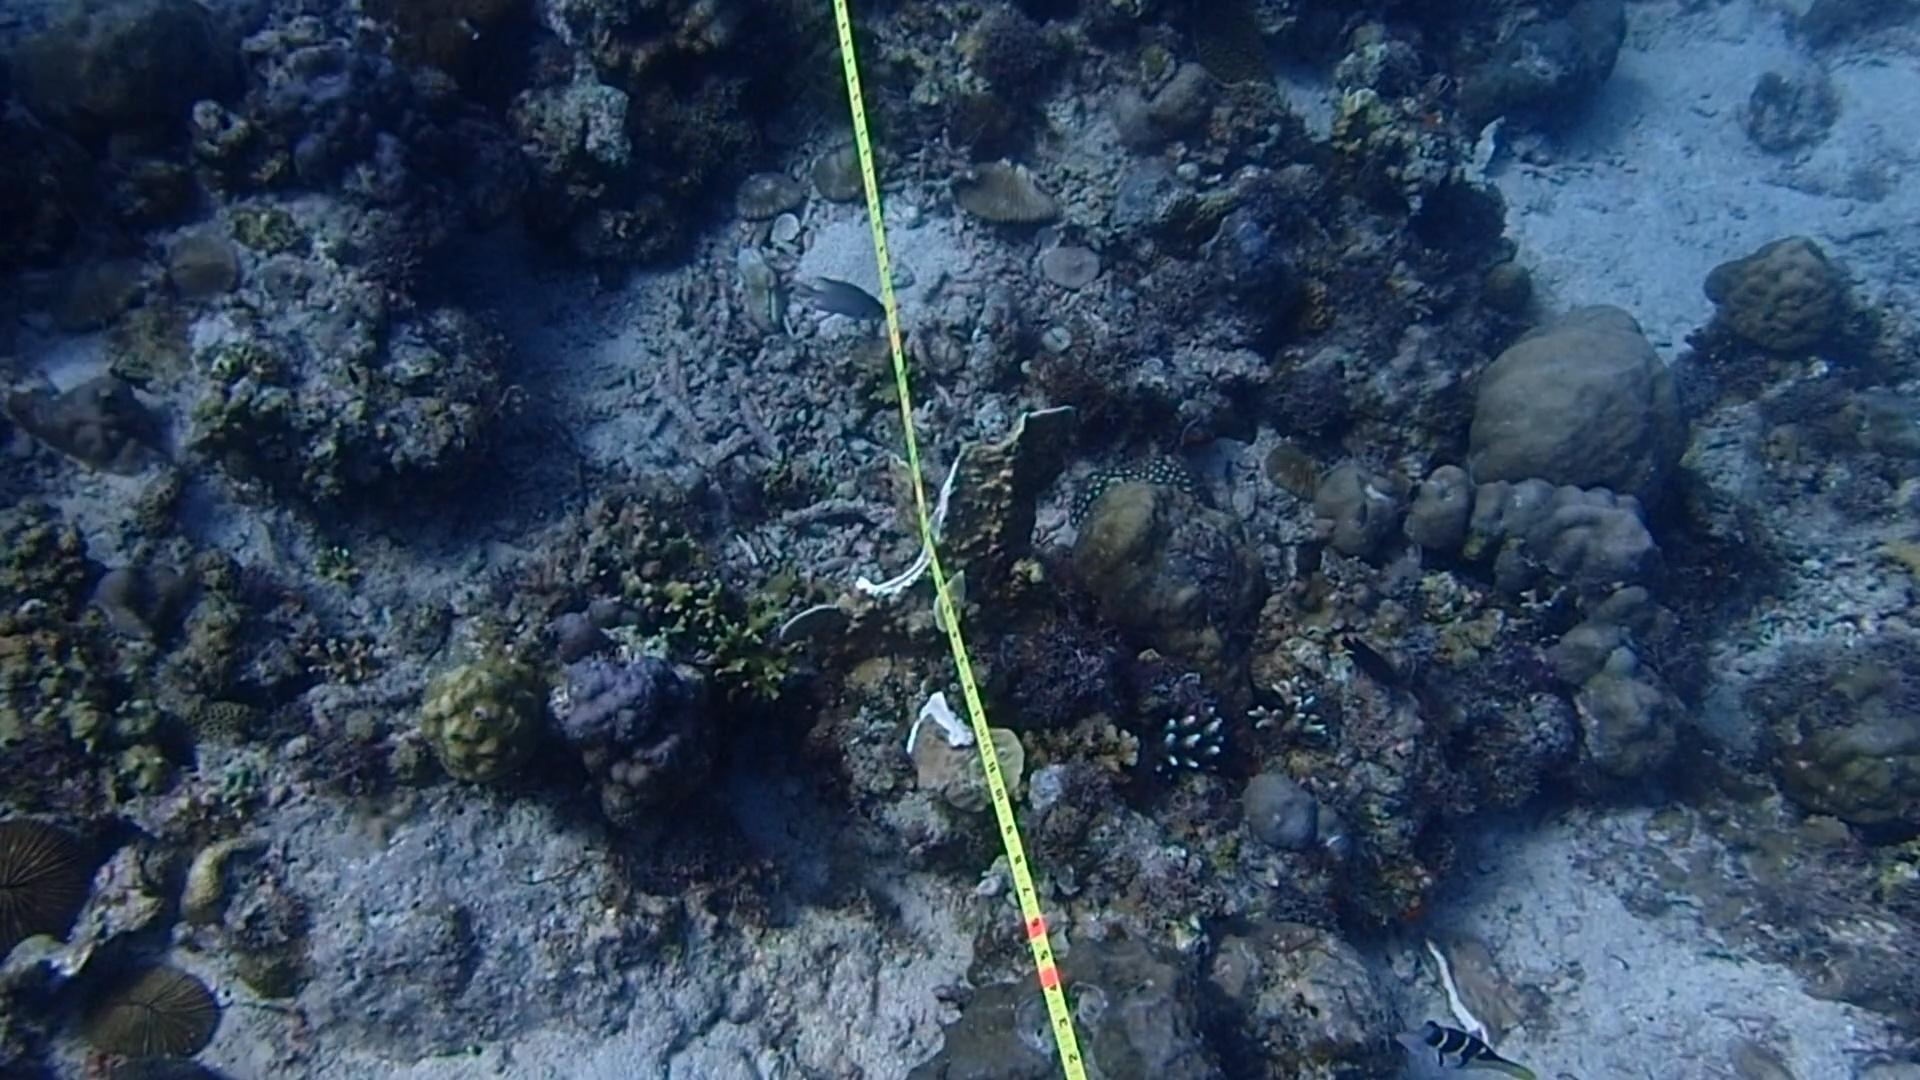Striped Fish: (1408, 1015, 1523, 1080)
